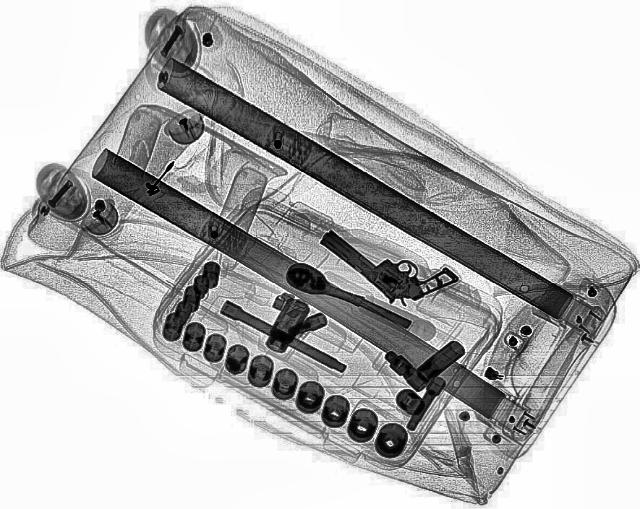Gun: (316, 204, 460, 314)
